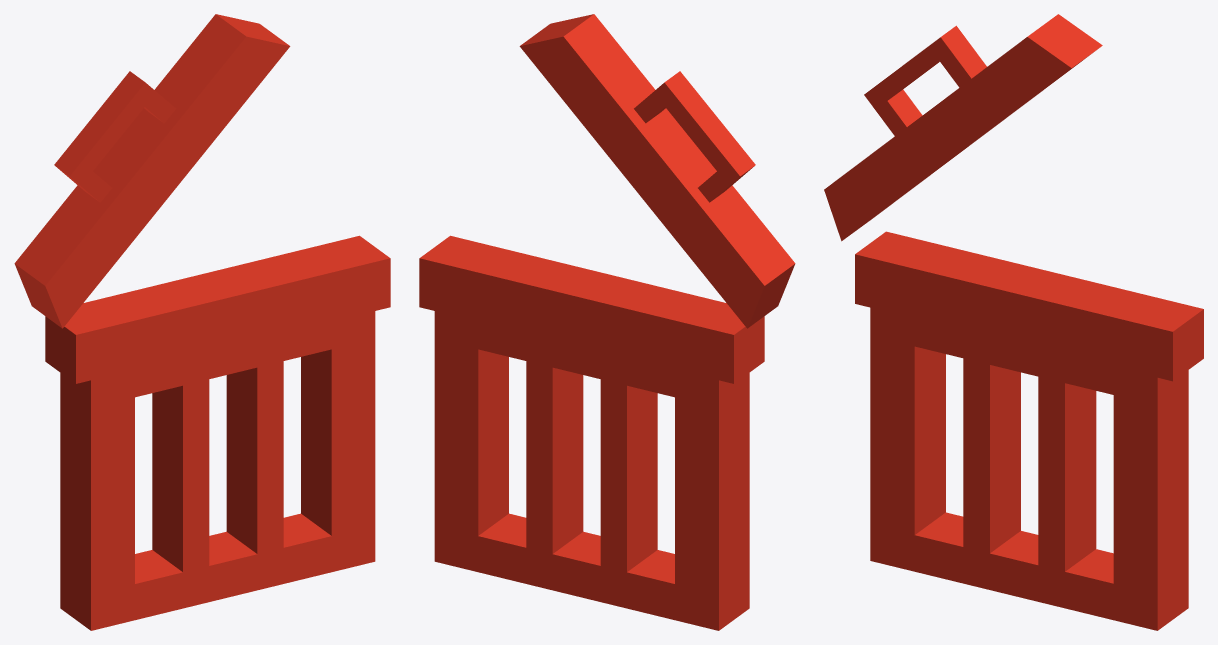
The model's file is Icon_Rubbish_02.fbx.
3 views of the same model, side by side, from view 1: azimuth 30°, elevation 25°; view 2: azimuth 150°, elevation 25°; view 3: azimuth 330°, elevation 25° (orthographic).
Visible parts, largest first — view 1: Icon_Rubbish_02; view 2: Icon_Rubbish_02; view 3: Icon_Rubbish_02.
Boxes of the visible parts, left/top/right/bottom form: Icon_Rubbish_02: left=14, top=14, right=390, bottom=630; Icon_Rubbish_02: left=419, top=14, right=795, bottom=630; Icon_Rubbish_02: left=824, top=14, right=1203, bottom=630.
Size of the model in its own units: 61 by 93.98 by 9.43.
